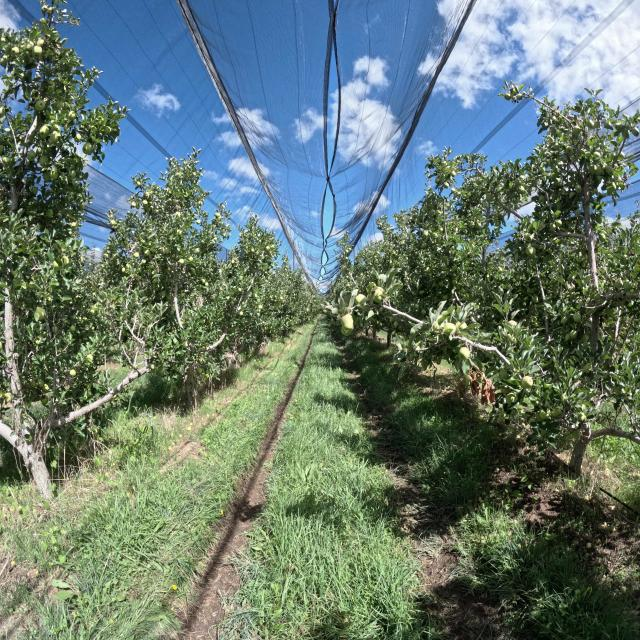-FireBlight-: (459, 366, 502, 414)
